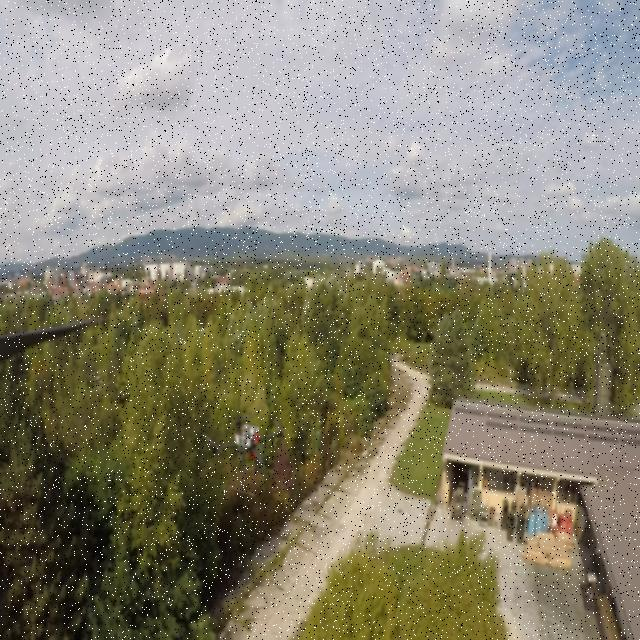UAV: (202, 416, 285, 498)
